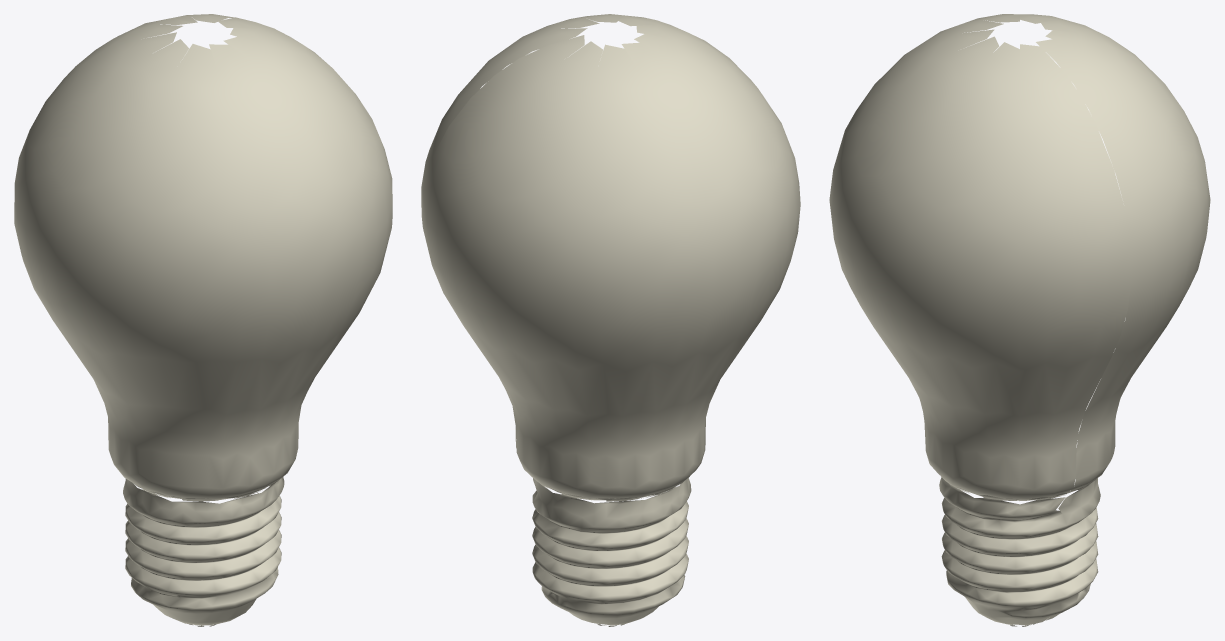
Rendered from bombilla.glb.
3 renders of one model, left to right at view 1: azimuth 30°, elevation 25°; view 2: azimuth 150°, elevation 25°; view 3: azimuth 270°, elevation 25°, orthographic.
Visible parts, largest first — view 1: world; view 2: world; view 3: world.
Boxes of the visible parts, x1=… form: world: x1=14, y1=14, x2=392, y2=626; world: x1=421, y1=14, x2=800, y2=626; world: x1=829, y1=14, x2=1210, y2=626.
Size of the model in its own units: 13.21 by 22.59 by 13.25.
